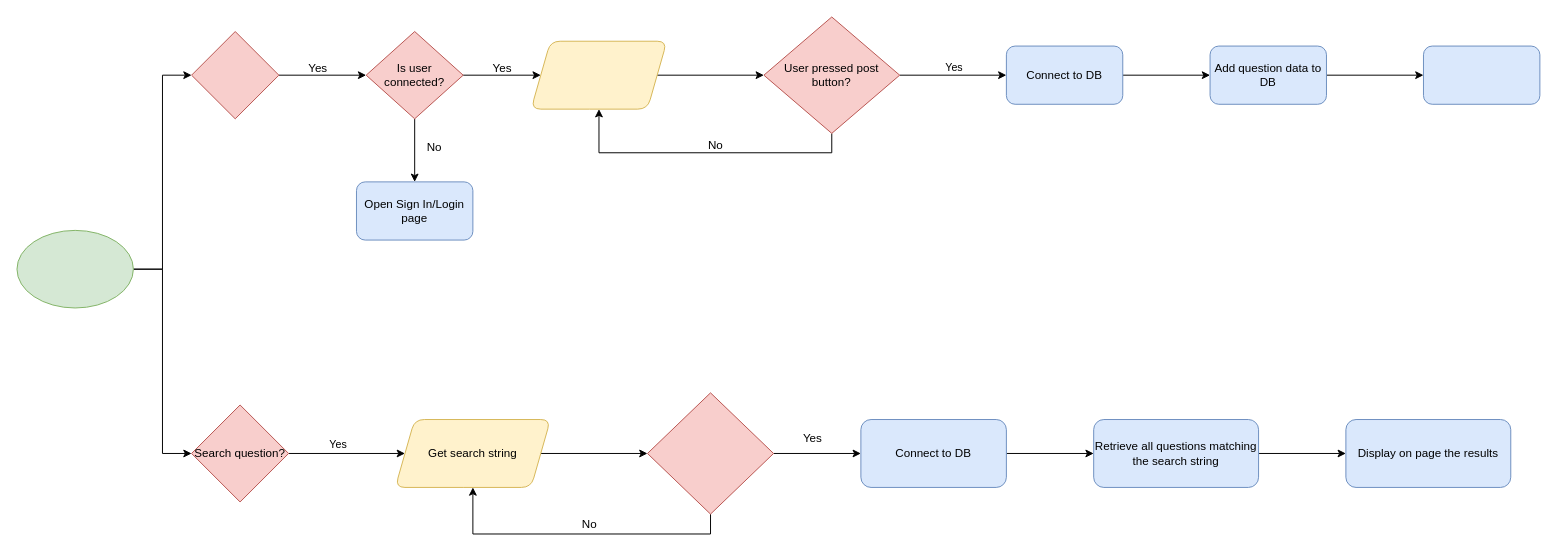
The diagram is 1557 pixels wide and 559 high, and some of its shapes have lost their labels. The shapes that lost their labels are listed below. From the top down, each one's box as (x1, y1, x2, y2) in pixels, then its label:
(191, 31, 279, 119): Ask Question?
(530, 40, 667, 109): Get user string input
(1423, 45, 1540, 104): Redirect user to the newly asked question
(16, 229, 133, 308): Start
(647, 392, 774, 514): User pressed search button?
